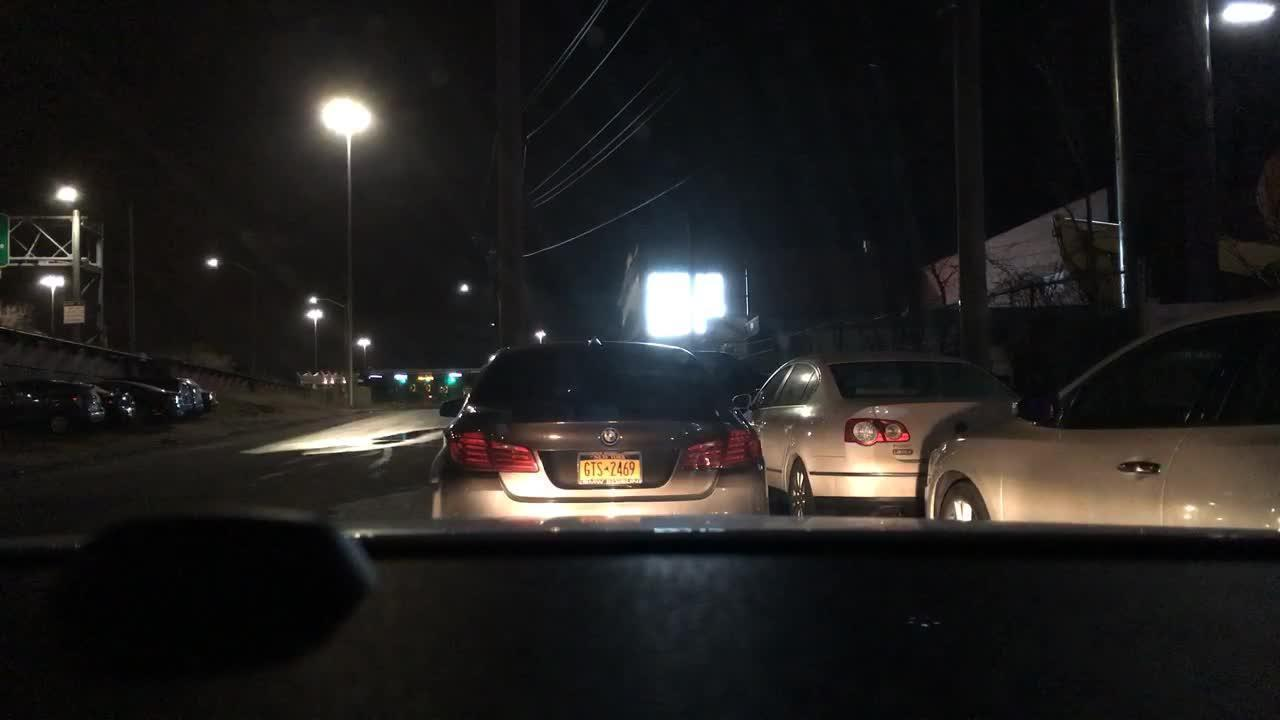bmw: (593, 428, 626, 447)
